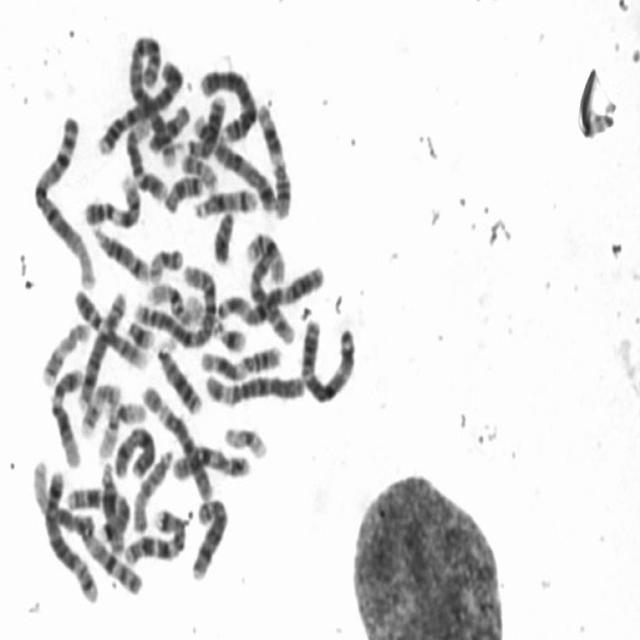A1: (30, 456, 145, 600), (27, 105, 98, 292)
A2: (129, 256, 218, 350), (124, 26, 178, 170)
A3: (210, 255, 326, 326), (295, 308, 358, 405)
B4: (91, 49, 185, 156), (194, 59, 259, 145)
B5: (33, 453, 100, 606), (188, 102, 278, 214)
C10: (244, 243, 297, 347), (166, 436, 254, 482)
C11: (252, 94, 294, 220), (196, 337, 284, 381)
C12: (120, 112, 169, 202), (45, 359, 85, 469)
C6: (136, 376, 215, 503), (198, 364, 308, 408)
C7: (61, 478, 130, 554), (118, 501, 188, 566)
C8: (73, 282, 128, 410), (186, 490, 232, 582)
C9: (68, 281, 150, 371), (78, 166, 143, 230)
D13: (150, 334, 204, 416), (171, 88, 228, 159)
D14: (87, 216, 151, 284), (188, 179, 260, 220)
D15: (128, 441, 175, 534), (98, 460, 127, 560)
E16: (142, 274, 204, 326), (240, 222, 287, 285)
E17: (36, 312, 92, 388), (75, 374, 124, 438)
E18: (143, 95, 192, 155), (158, 165, 204, 214)
F19: (218, 416, 270, 461), (106, 393, 149, 425)
F20: (144, 238, 186, 285), (176, 146, 220, 190)
G21: (211, 315, 249, 354), (121, 312, 156, 349)
G22: (93, 400, 121, 460), (180, 286, 204, 327)
X: (108, 418, 158, 481)
Y: (208, 202, 236, 266)
